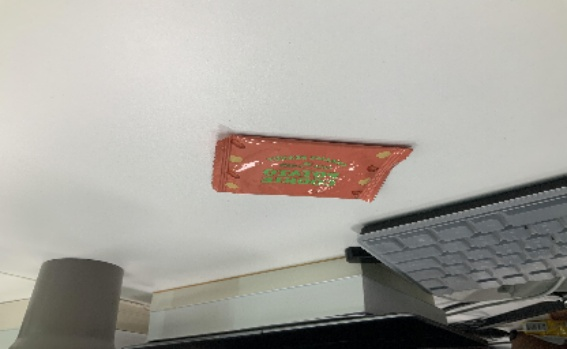pota: (207, 131, 415, 206)
